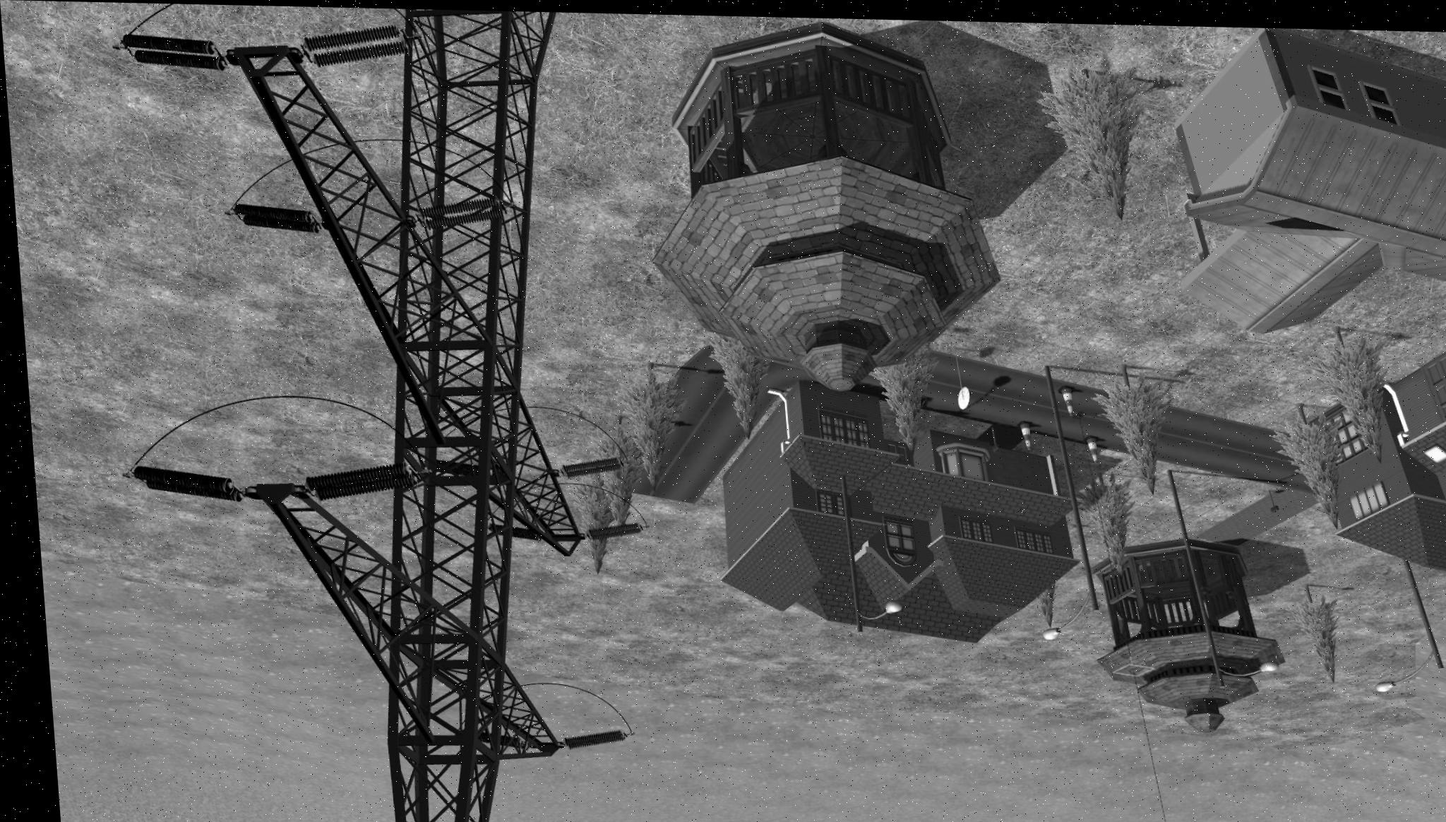tower: (98, 2, 620, 822)
